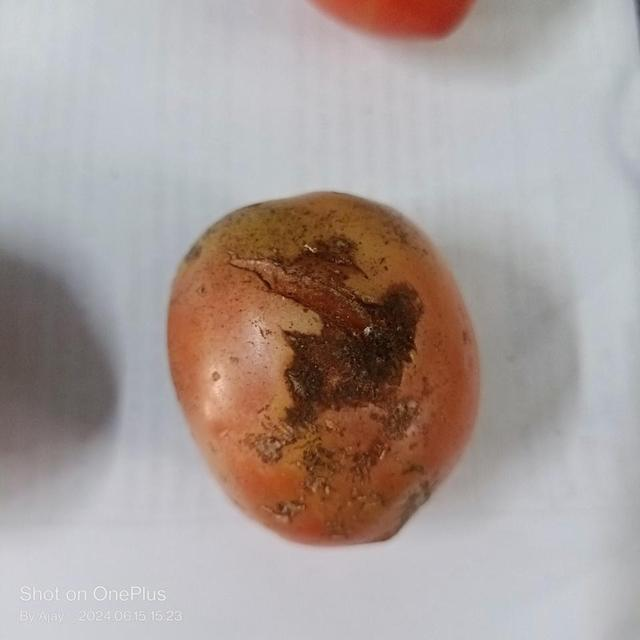Cracking Fruit: (90, 106, 283, 375)
